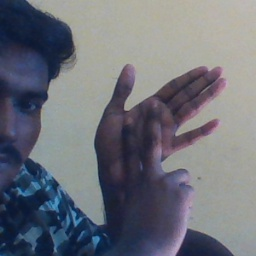N: (89, 61, 230, 215)
